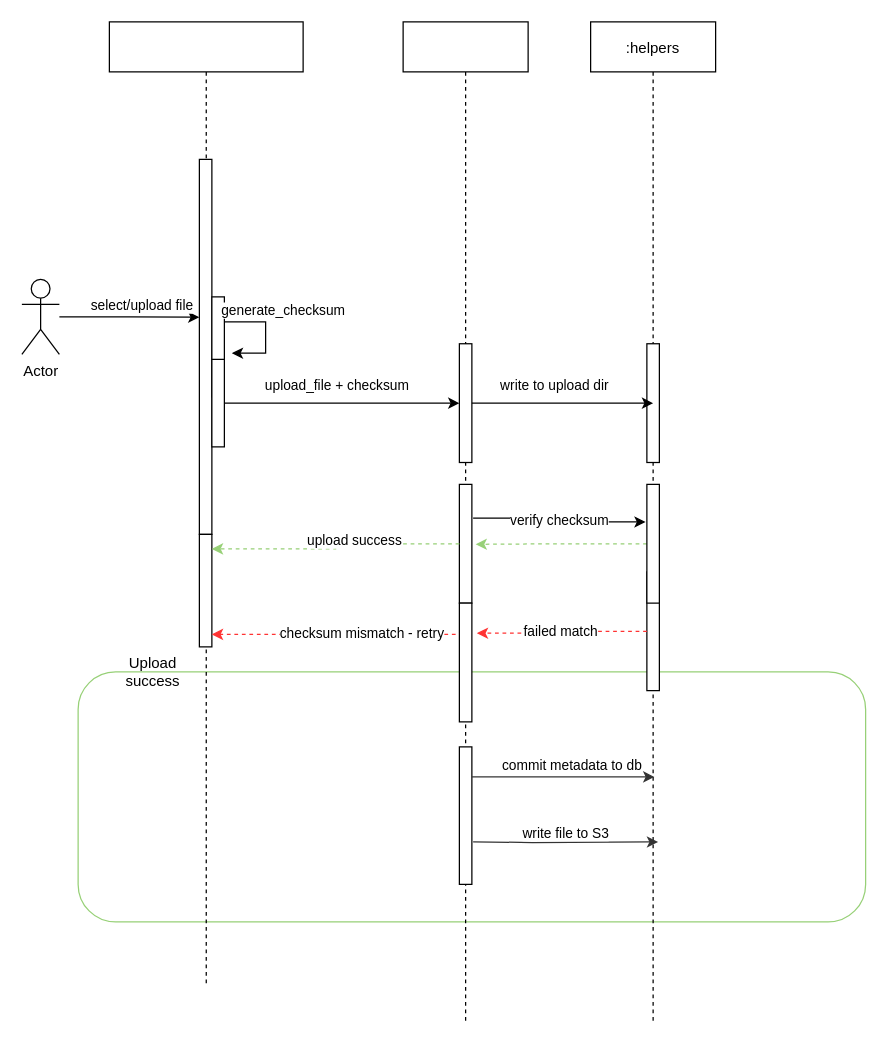
The diagram is 888 pixels wide and 1044 high, and some of its shapes have lost their labels. Here are the shapes that lost their labels. From the top down, the box of each, then its label:
(108, 21, 303, 984): :upload_client
(402, 21, 528, 1022): :upload_service
